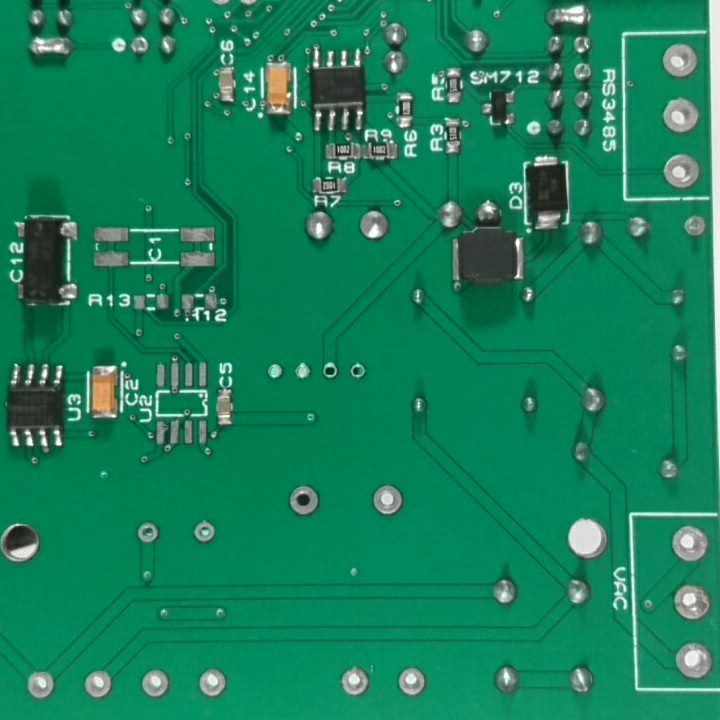F: (670, 580, 715, 623), (661, 150, 704, 194), (673, 638, 716, 681), (659, 94, 702, 136), (670, 522, 712, 565), (660, 40, 701, 79), (367, 483, 405, 518), (394, 661, 428, 699), (24, 666, 56, 706), (288, 483, 324, 518), (138, 666, 173, 700), (195, 666, 230, 700), (339, 666, 373, 701), (81, 669, 116, 701), (134, 520, 164, 547), (191, 518, 216, 546), (681, 214, 706, 240), (571, 60, 596, 85), (266, 360, 287, 386), (129, 35, 152, 58), (320, 360, 341, 383), (291, 362, 313, 383), (348, 361, 367, 380)
P: (541, 1, 596, 30), (24, 32, 79, 58)
